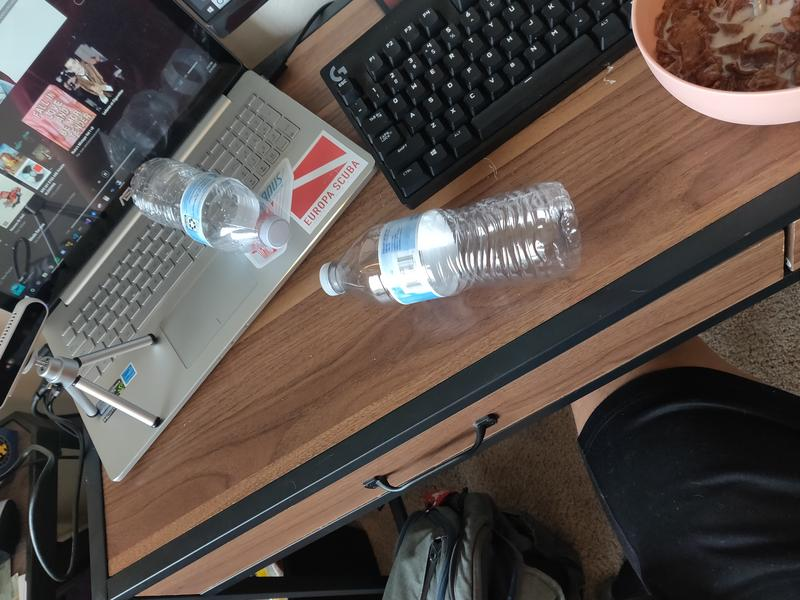bottle: (319, 181, 583, 307), (130, 156, 291, 253)
